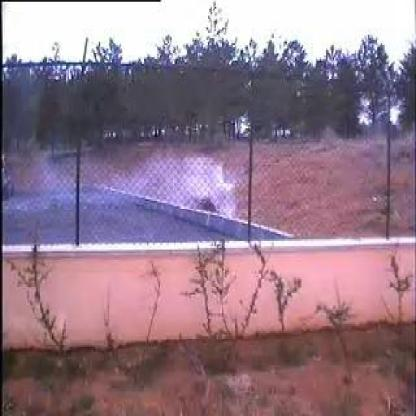-: (34, 145, 244, 244)
